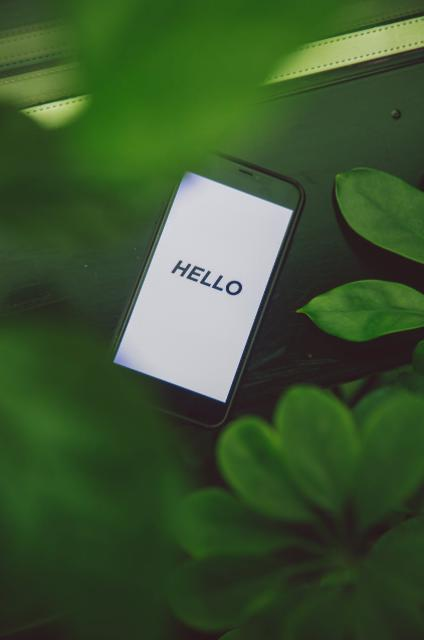mobile: (107, 145, 304, 427)
